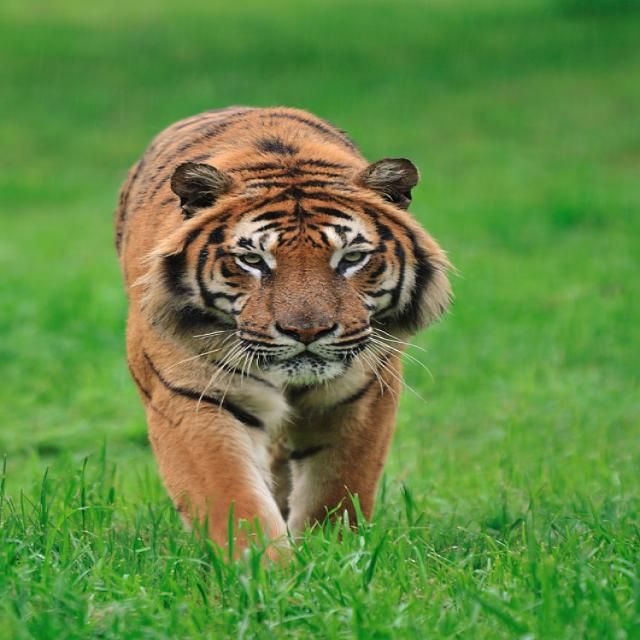Tiger: (100, 103, 453, 591)
